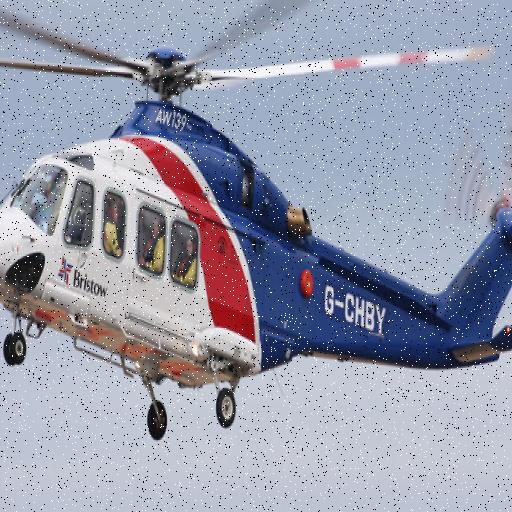helicopter: (1, 1, 512, 453)
